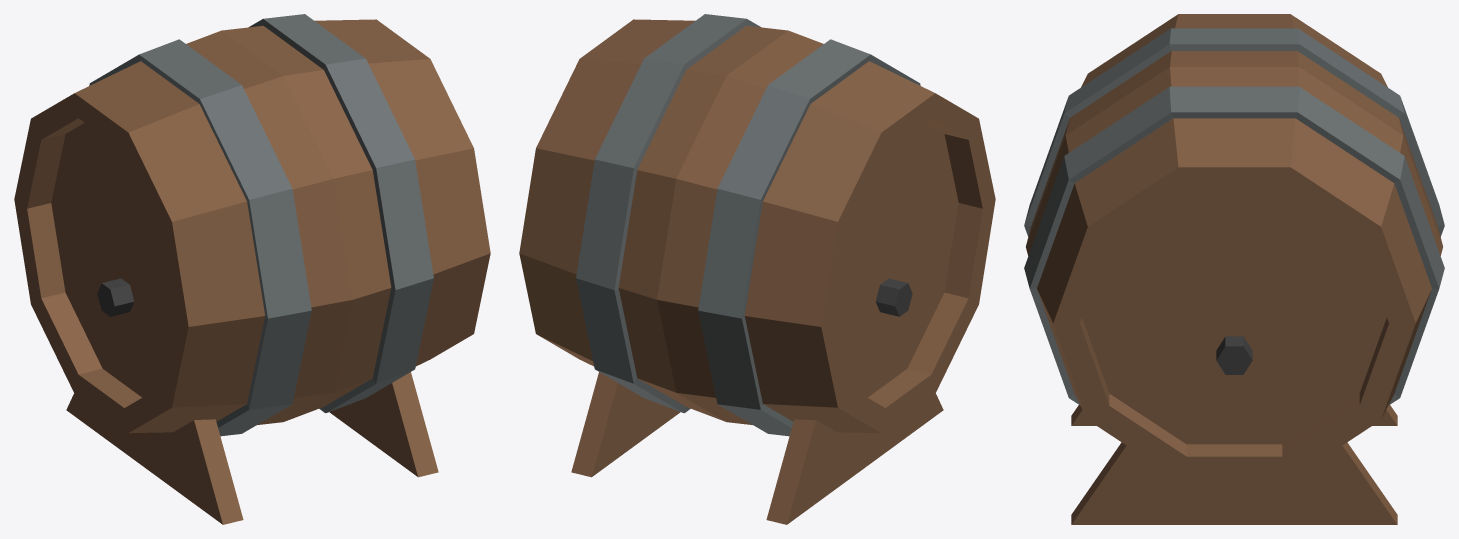
The model's file is Barrel_4_Brown.fbx.
3 renders of one model, left to right at view 1: azimuth 30°, elevation 25°; view 2: azimuth 150°, elevation 25°; view 3: azimuth 270°, elevation 25°, orthographic. The views are drawn at different scales.
Visible parts, largest first — view 1: Barrel_4_Brown_Part_1, Barrel_4_Brown_Part_2, Barrel_4_Brown_Part_3; view 2: Barrel_4_Brown_Part_1, Barrel_4_Brown_Part_2, Barrel_4_Brown_Part_3; view 3: Barrel_4_Brown_Part_1, Barrel_4_Brown_Part_2, Barrel_4_Brown_Part_3.
Part boxes in pixels (x1,y1,x2,y2): Barrel_4_Brown_Part_1: [14, 19, 490, 524]; Barrel_4_Brown_Part_2: [89, 14, 433, 436]; Barrel_4_Brown_Part_3: [97, 278, 134, 316]; Barrel_4_Brown_Part_1: [519, 19, 995, 524]; Barrel_4_Brown_Part_2: [576, 14, 920, 436]; Barrel_4_Brown_Part_3: [875, 278, 912, 316]; Barrel_4_Brown_Part_1: [1026, 14, 1442, 524]; Barrel_4_Brown_Part_2: [1024, 28, 1444, 405]; Barrel_4_Brown_Part_3: [1216, 336, 1252, 374].
Size of the model in its own units: 100 by 123 by 116.
